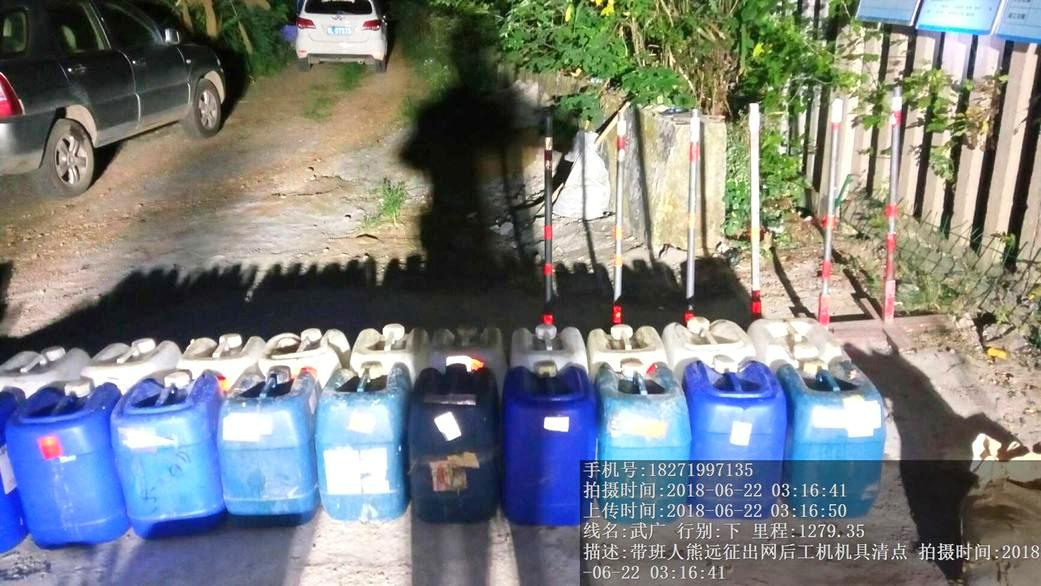SLT: (12, 379, 131, 545), (215, 373, 318, 523), (401, 368, 498, 522), (786, 360, 902, 464), (589, 360, 697, 459)
